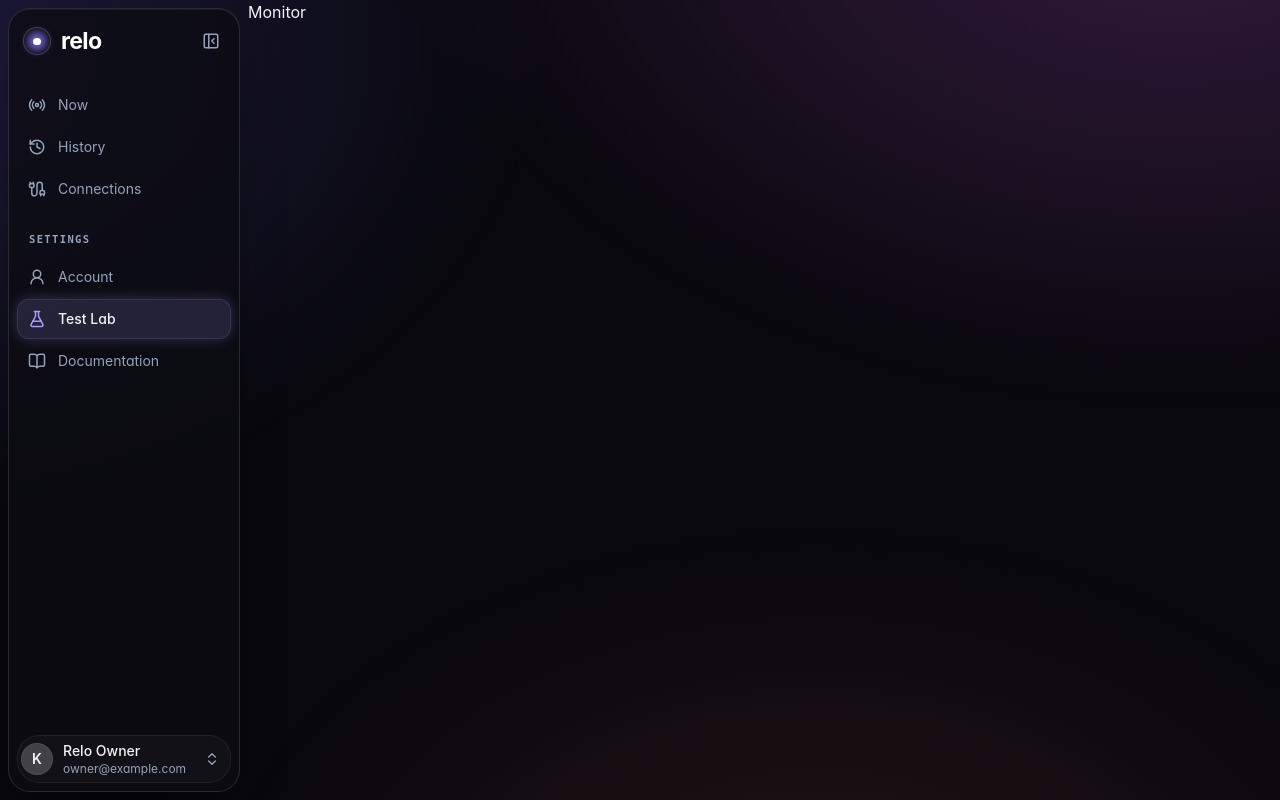
Test: Dashboard shell mobile contracts › opens the command menu with Ctrl+K and the shortcuts with ?
This screenshot has width=1280, height=800.
Press k
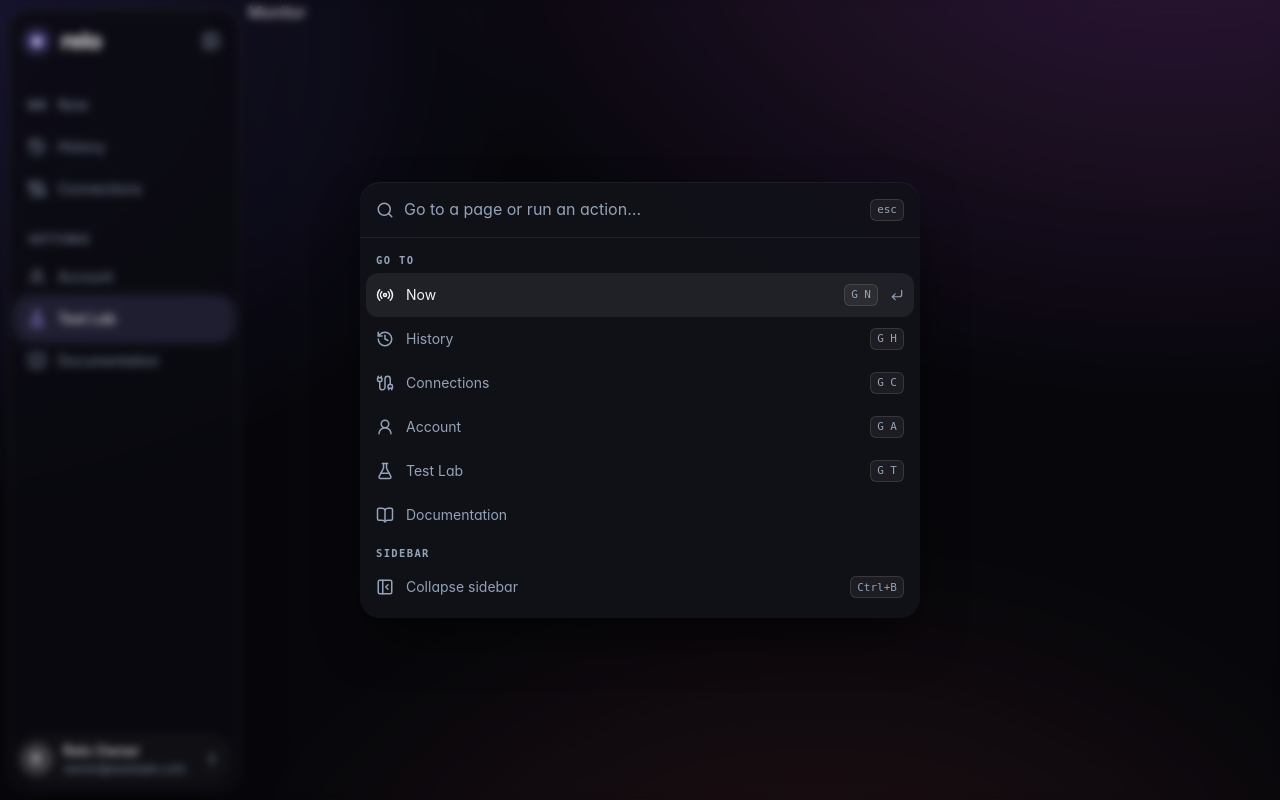
Type "hist" into the dropdown named "Search pages and actions".
click(632, 210); type("hist")  # box x1=404 y1=198 x2=860 y2=221
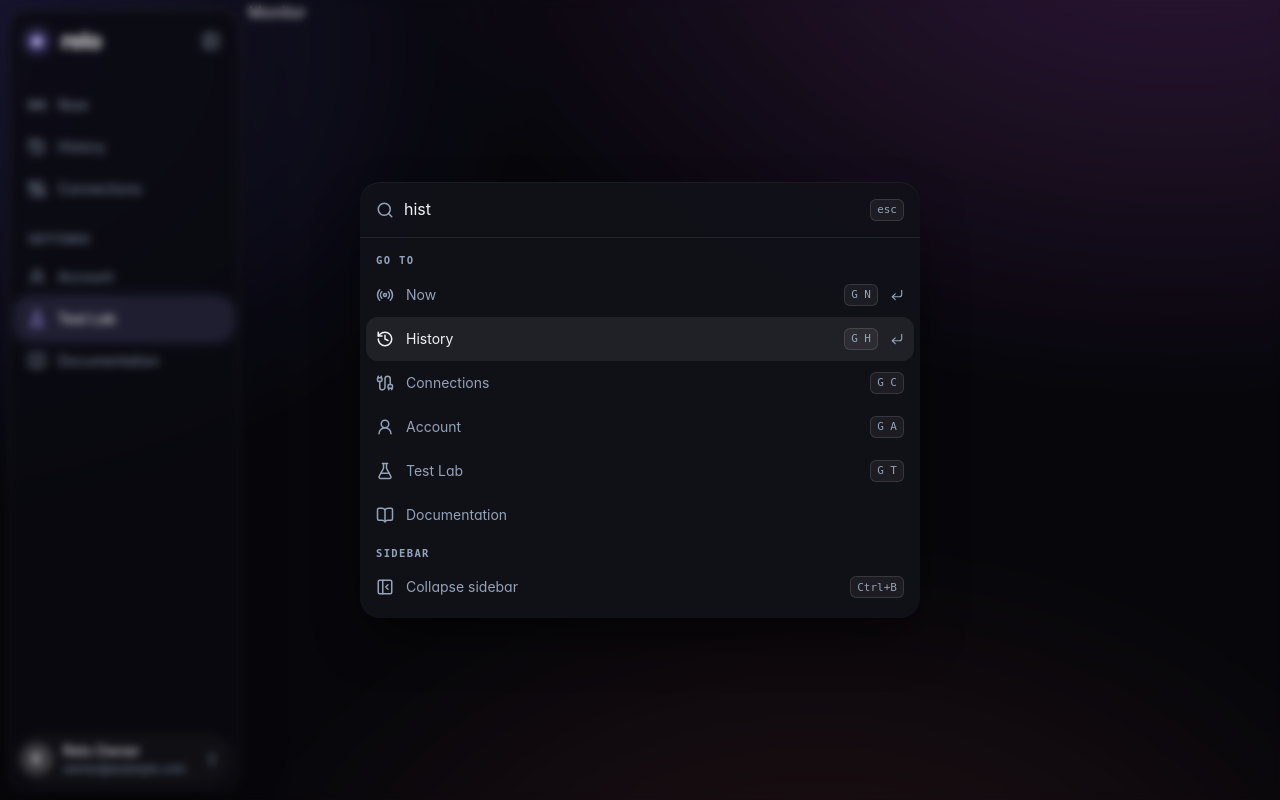
Check: the options read "HistoryG H", in this order, box x1=366 y1=317 x2=914 y2=361
// Test Lab moved to the settings and keeps its jump.
Replace the text in the dropdown named "Search pages and actions" with "test lab" at (632, 210), box x1=404 y1=198 x2=860 y2=221
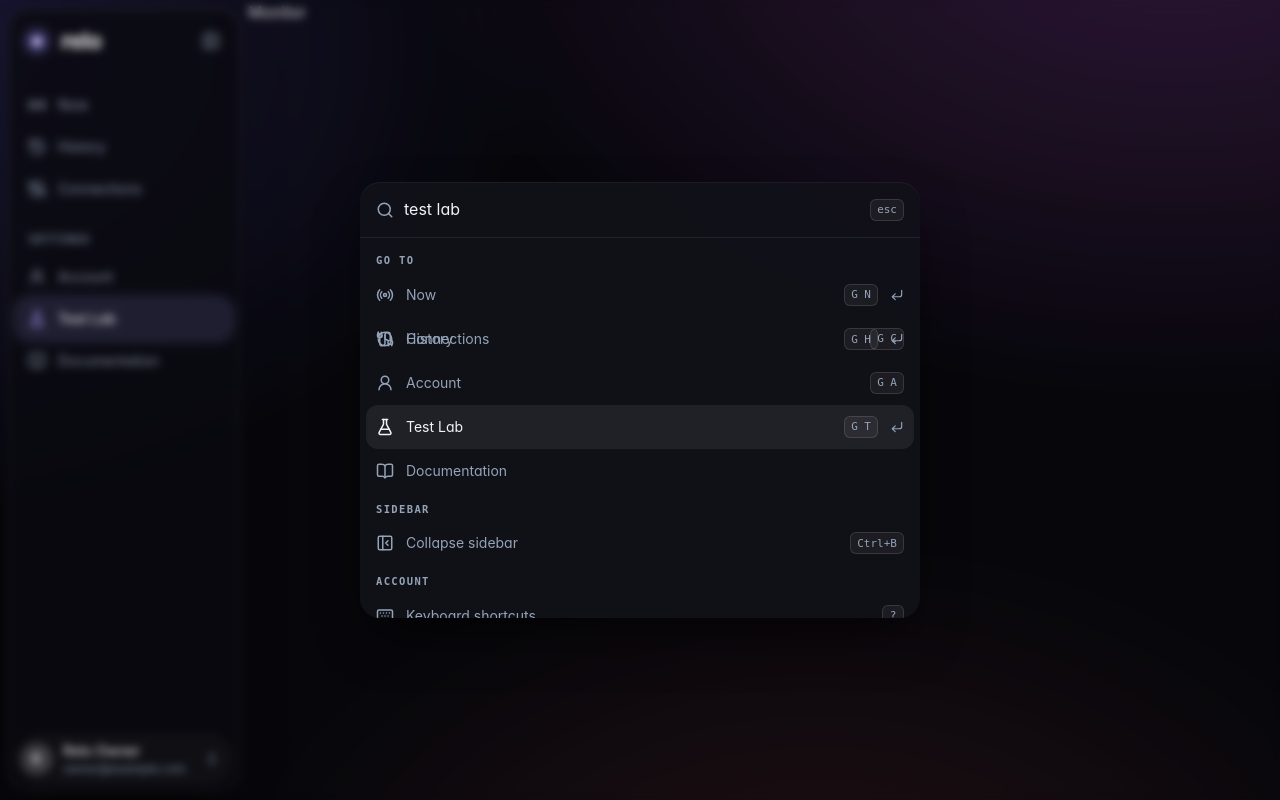
Check: the options read "Test LabG T", in this order, box x1=366 y1=405 x2=914 y2=449
Replace the text in the dropdown named "Search pages and actions" with "sidebar" at (632, 210), box x1=404 y1=198 x2=860 y2=221
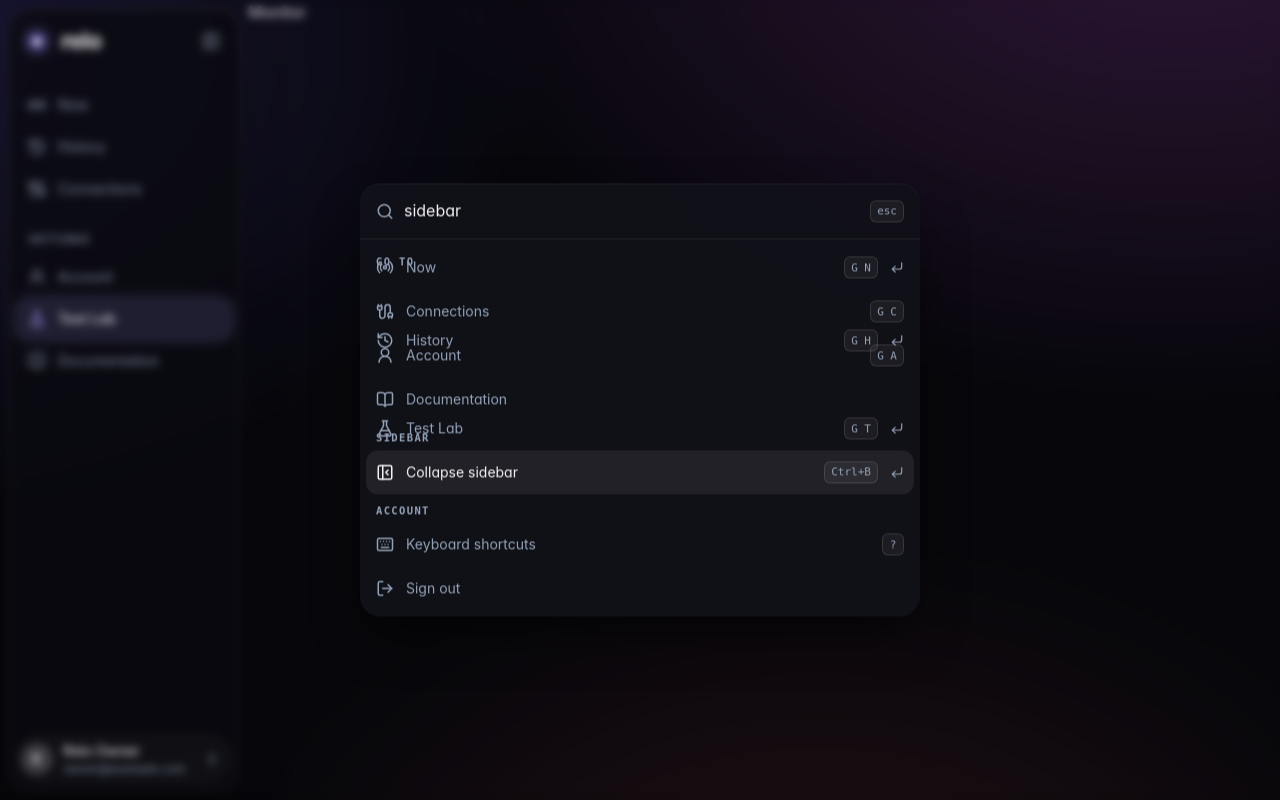
Check: the option "Collapse sidebar Ctrl+B" is shown, box x1=366 y1=450 x2=914 y2=494
Press Escape in the dropdown named "Search pages and actions", box x1=404 y1=200 x2=860 y2=222
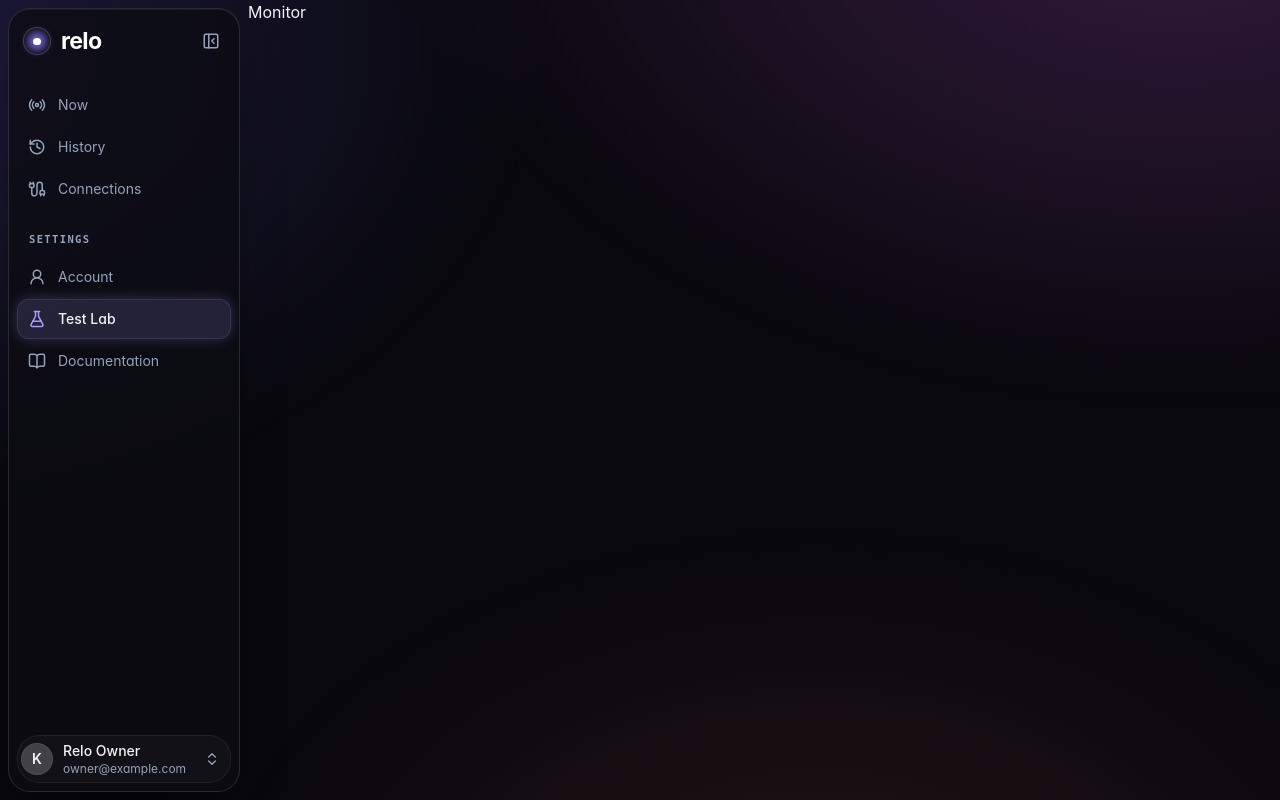
Check: the dialog "Command menu" is not shown
Press ?
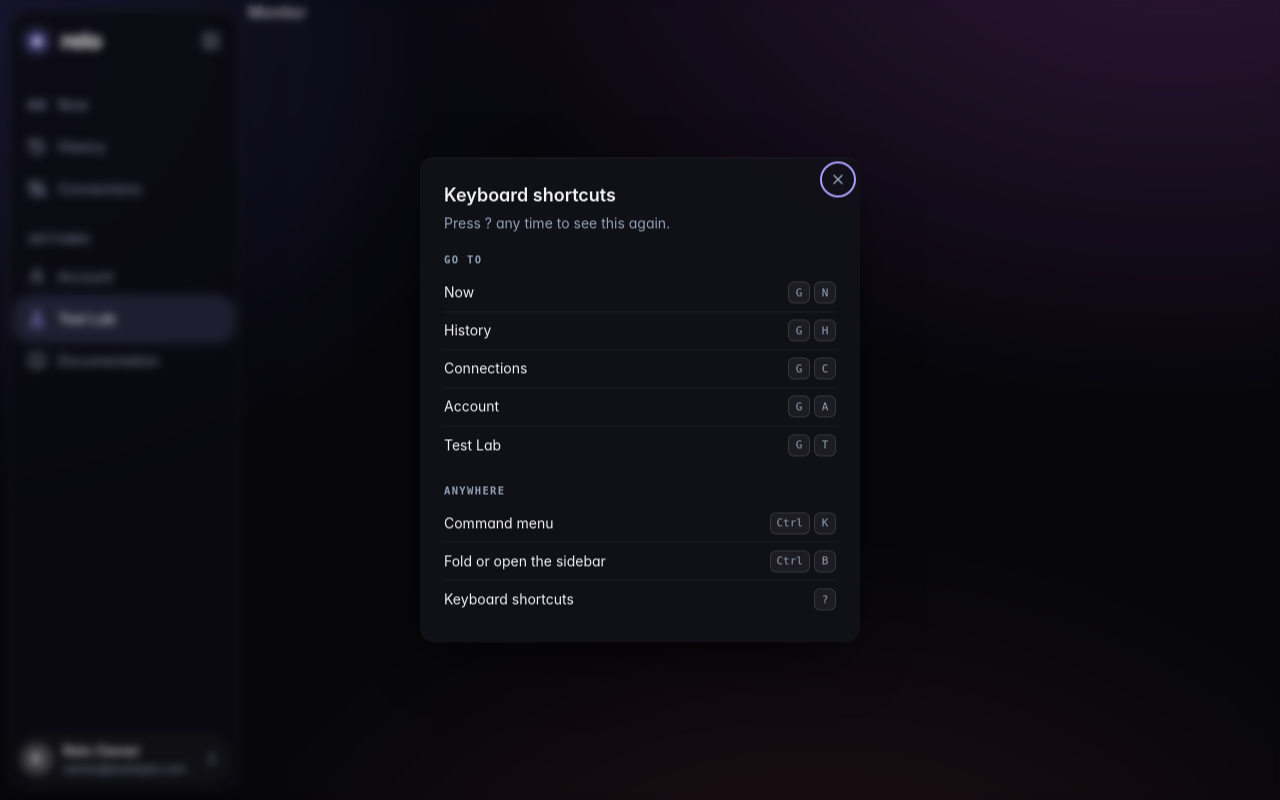
Check: the dialog "Keyboard shortcuts" is shown, box x1=420 y1=157 x2=860 y2=643
